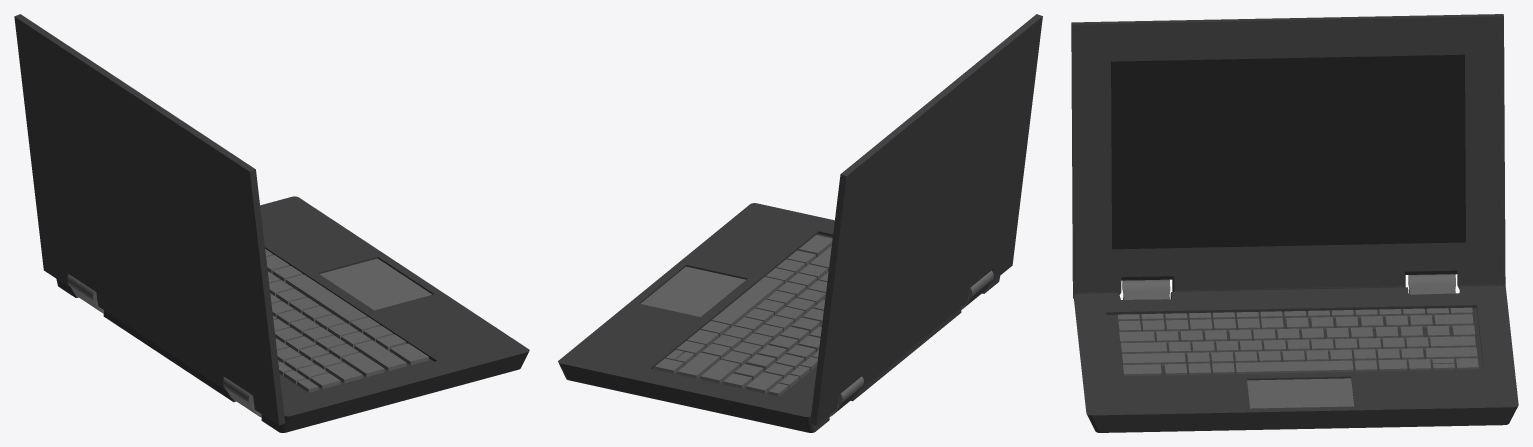
Rendered from Netbook_JuanaS_47066612 (revisar).fbx.
The picture shows the model from 3 angles, left to right: view 1: azimuth 30°, elevation 25°; view 2: azimuth 150°, elevation 25°; view 3: azimuth 270°, elevation 25°; orthographic projection. The views are drawn at different scales.
Visible parts, largest first — view 1: base, teclas; view 2: base, teclas; view 3: base, teclas.
Part boxes in pixels (x1,y1,x2,y2): base: (14, 14, 529, 432); teclas: (265, 249, 428, 392); base: (558, 14, 1042, 432); teclas: (655, 235, 832, 396); base: (1071, 14, 1518, 432); teclas: (1117, 307, 1478, 376).
Size of the model in its own units: 24.33 by 20.92 by 31.01.
Materials: 1 (1 with a texture image).
